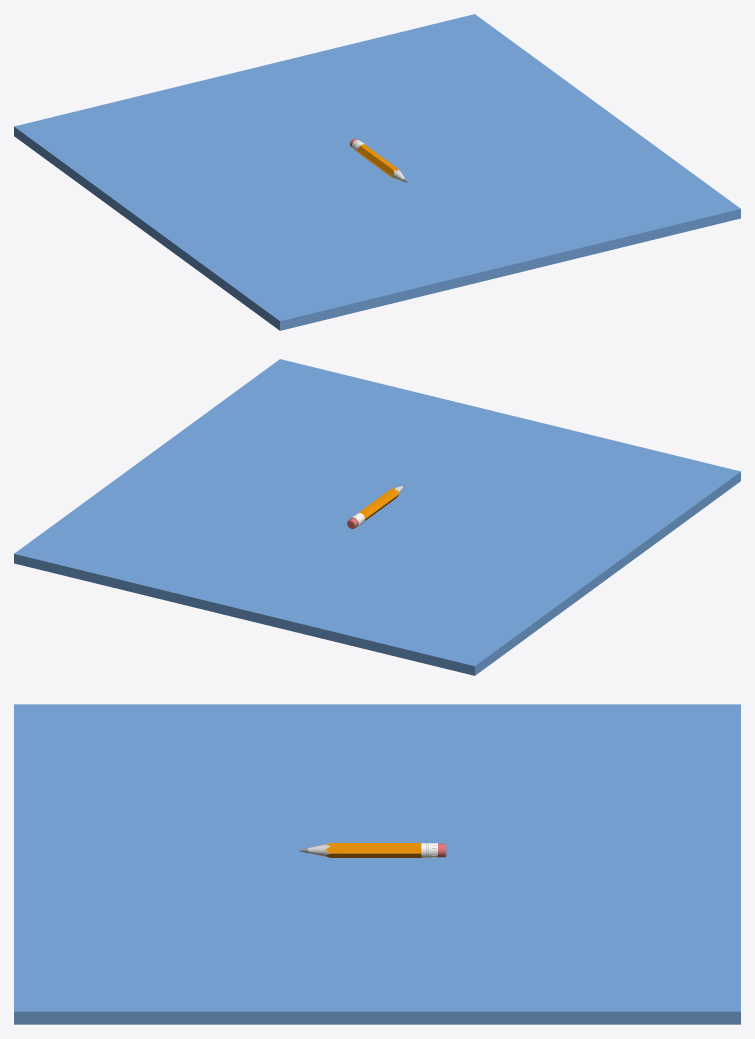
File: pencil.fbx
The picture shows the model from 3 angles, top to bottom: view 1: azimuth 30°, elevation 25°; view 2: azimuth 150°, elevation 25°; view 3: azimuth 270°, elevation 25°; orthographic projection. The views are drawn at different scales.
Visible parts, largest first — view 1: Table, Pencil; view 2: Table, Pencil; view 3: Table, Pencil.
Part boxes in pixels (bbox=[...]): Table: bbox=[14, 14, 740, 330]; Pencil: bbox=[350, 138, 407, 182]; Table: bbox=[14, 359, 740, 675]; Pencil: bbox=[347, 485, 404, 528]; Table: bbox=[14, 704, 740, 1024]; Pencil: bbox=[299, 842, 446, 858].
Size of the model in its own units: 10000 by 434 by 10000.
